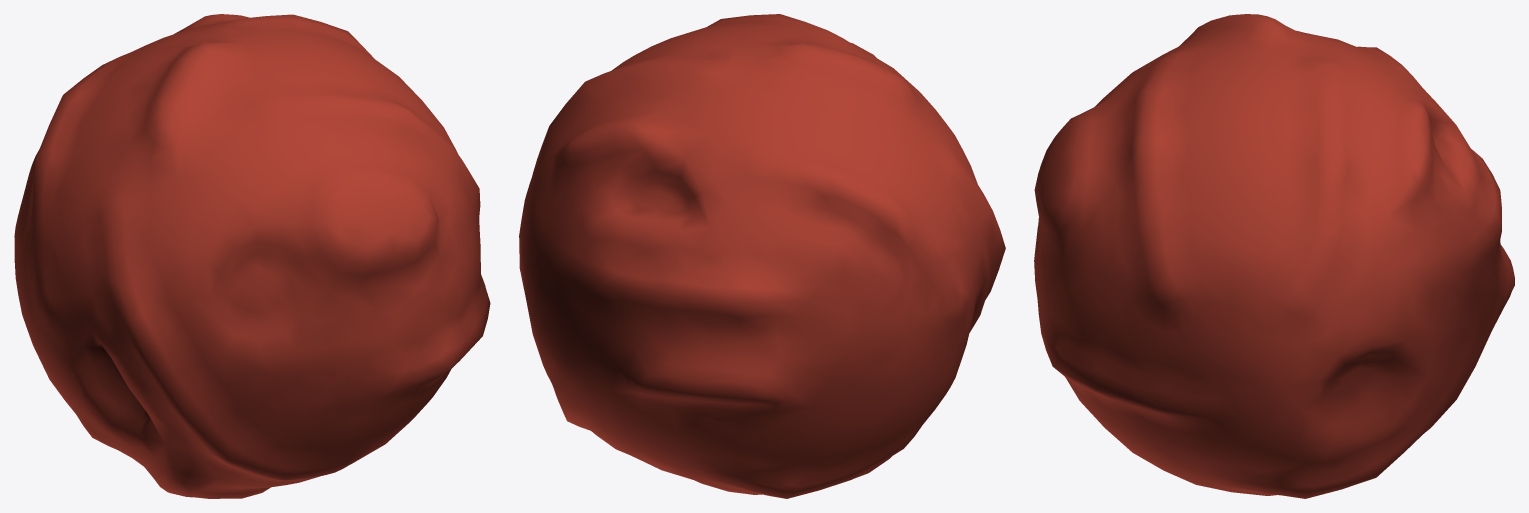
File: env_planetRing.FBX
3 renders of one model, left to right at view 1: azimuth 30°, elevation 25°; view 2: azimuth 150°, elevation 25°; view 3: azimuth 270°, elevation 25°, orthographic.
Parts seen in each view (by area): view 1: env_planetRing; view 2: env_planetRing; view 3: env_planetRing.
Part boxes in pixels (box(x1,y1,x2,y2)): env_planetRing: box(14, 14, 490, 498); env_planetRing: box(519, 14, 1005, 498); env_planetRing: box(1034, 14, 1514, 498).
Bounding box in the file's own units: 6.59 × 6.85 × 6.72.
